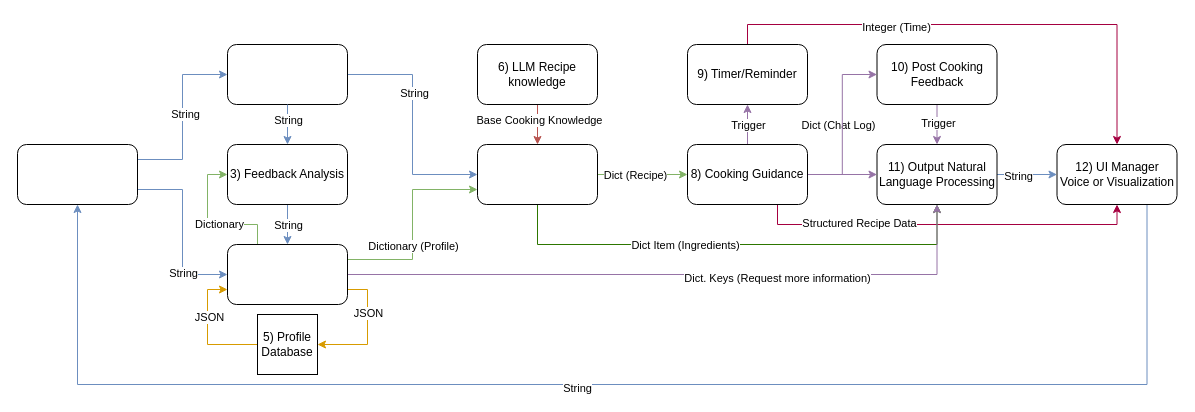
Image size: 1195x412. Some labels were removed from this diagram. Here are the shapes that lost their labels. From the top down, the box of each, then its label:
(226, 44, 348, 104): 2) Input Natural Language Processing
(16, 144, 138, 204): 1) User Input
(476, 144, 598, 204): 7) Recipe Selection
(226, 244, 348, 304): 4) Profile Management
